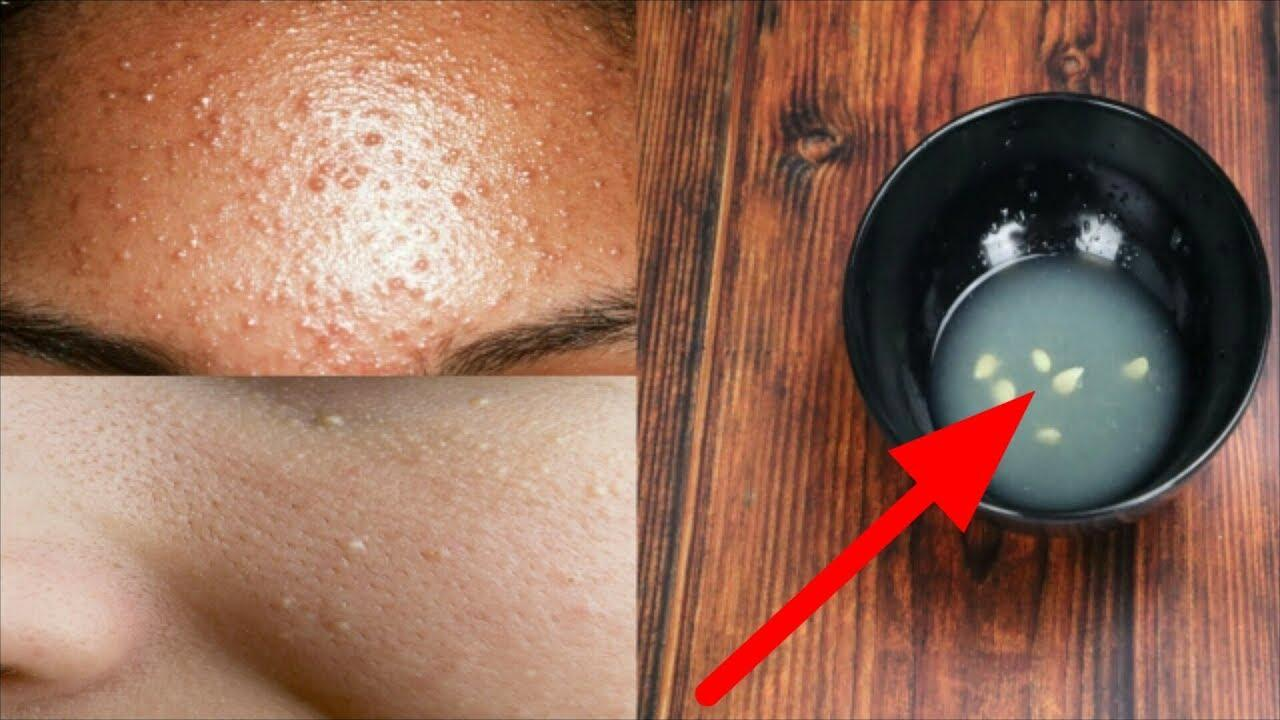Acne: (5, 5, 631, 374), (237, 387, 627, 696)
